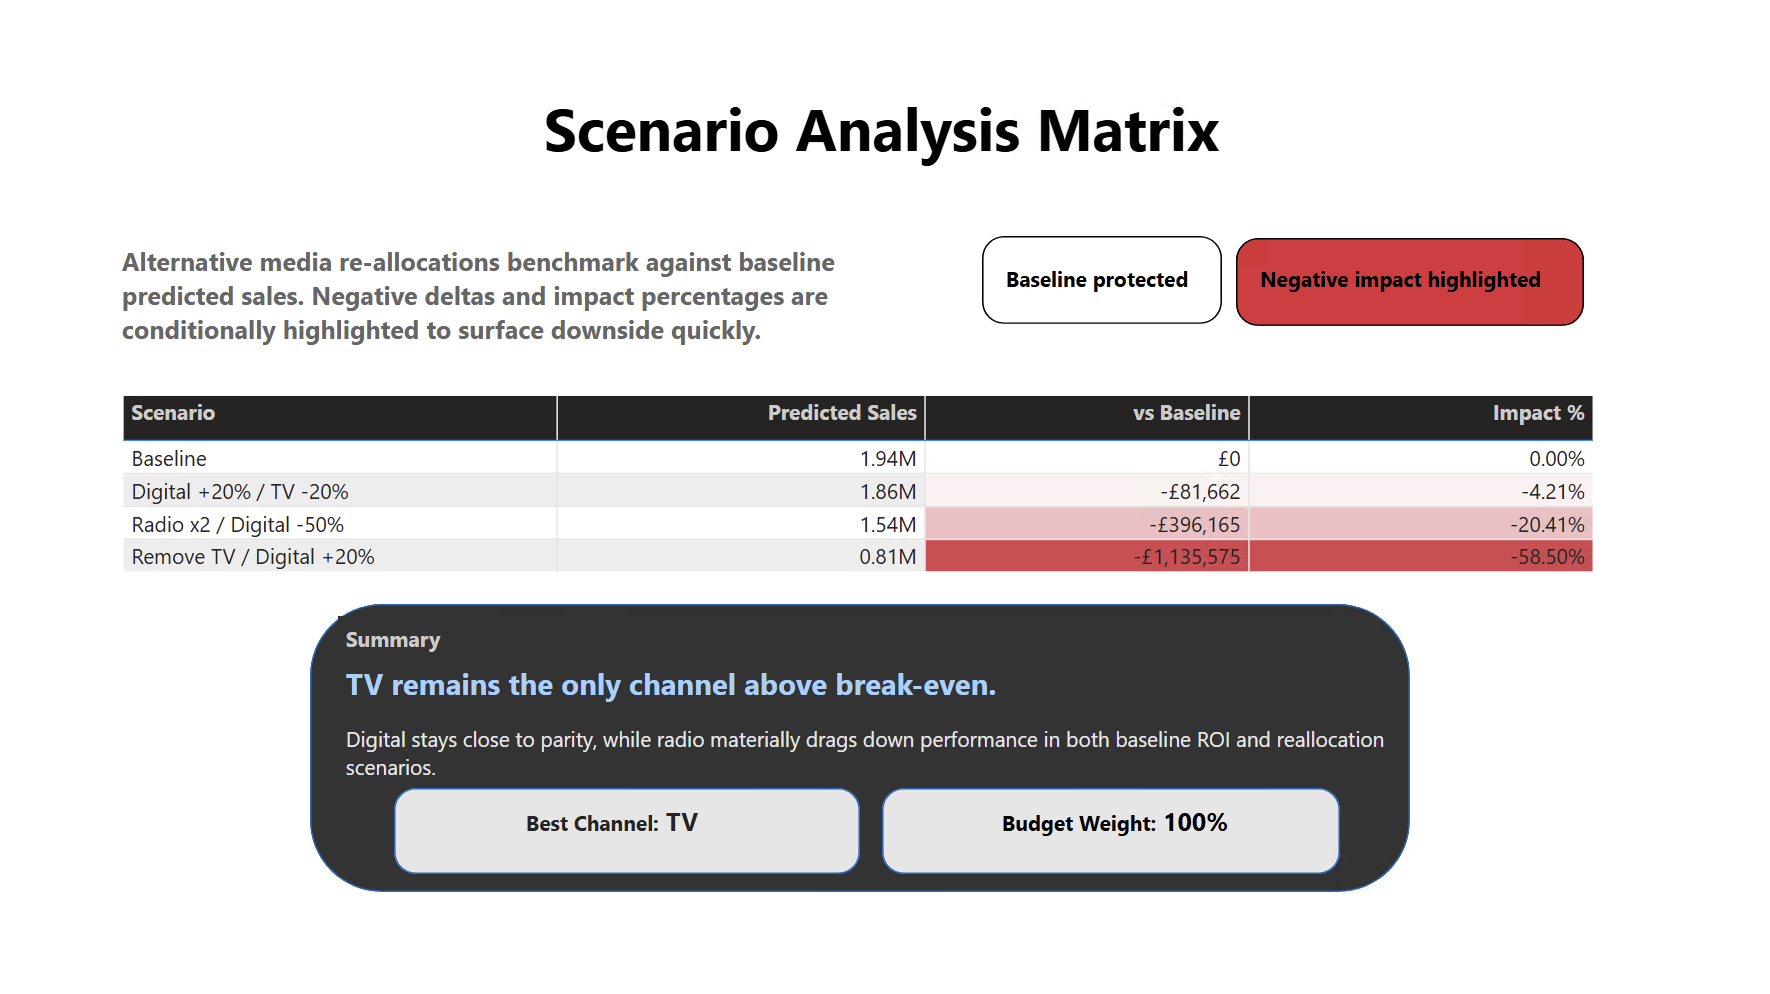

The page's visual inventory and layout, read from the dashboard file:
{"tool":"powerbi","page":{"name":"Scenario Analysis","canvas":[1280,720],"ordinal":3},"visuals":[{"type":"tableEx","fields":{"Values":["scenario_analysis.Scenario","Sum(scenario_analysis.Predicted Sales)","Sum(scenario_analysis.vs Baseline)","scenario_analysis.Impact % Display"]},"box":[150.4,281.8,956.2,137.7],"z":0},{"type":"textbox","box":[419.4,85.4,502.3,90.5],"z":1000},{"type":"textbox","box":[150.4,184.9,539.3,85.4],"z":2000},{"type":"shape","box":[703.7,184.9,153,56.1],"z":3000},{"type":"textbox","box":[713.9,197.6,133.9,31.9],"z":4000},{"type":"shape","box":[865.7,186.1,221.8,56.1],"z":5000},{"type":"textbox","box":[875.9,197.6,201.4,33.1],"z":6000},{"type":"shape","box":[275.4,419.4,701.2,183.6],"z":7000},{"type":"textbox","box":[293.2,427.1,165.7,31.9],"z":8000},{"type":"textbox","box":[293.2,452.6,452.6,34.4],"z":9000},{"type":"textbox","box":[293.2,490.8,680.8,59.9],"z":10000},{"type":"shape","box":[328.9,536.7,297.1,54.8],"z":11000},{"type":"shape","box":[640,536.7,292,54.8],"z":12000},{"type":"textbox","box":[408,541.8,168.3,31.9],"z":13000},{"type":"textbox","box":[711.4,541.8,193.8,31.9],"z":14000}]}

Visuals, with their boxes in screenshot pixels (x1, y1, x2, y2), scaled from the page's 1280x720 canvas onto the 1770x994 screenshot:
tableEx - scenario_analysis.Scenario x Sum(scenario_analysis.Predicted Sales): <region>208, 389, 1530, 579</region>
textbox: <region>580, 118, 1275, 243</region>
textbox: <region>208, 255, 954, 373</region>
shape: <region>973, 255, 1185, 333</region>
textbox: <region>987, 273, 1172, 317</region>
shape: <region>1197, 257, 1504, 334</region>
textbox: <region>1211, 273, 1490, 318</region>
shape: <region>381, 579, 1350, 832</region>
textbox: <region>405, 590, 635, 634</region>
textbox: <region>405, 625, 1031, 672</region>
textbox: <region>405, 678, 1347, 760</region>
shape: <region>455, 741, 866, 817</region>
shape: <region>885, 741, 1289, 817</region>
textbox: <region>564, 748, 797, 792</region>
textbox: <region>984, 748, 1252, 792</region>
